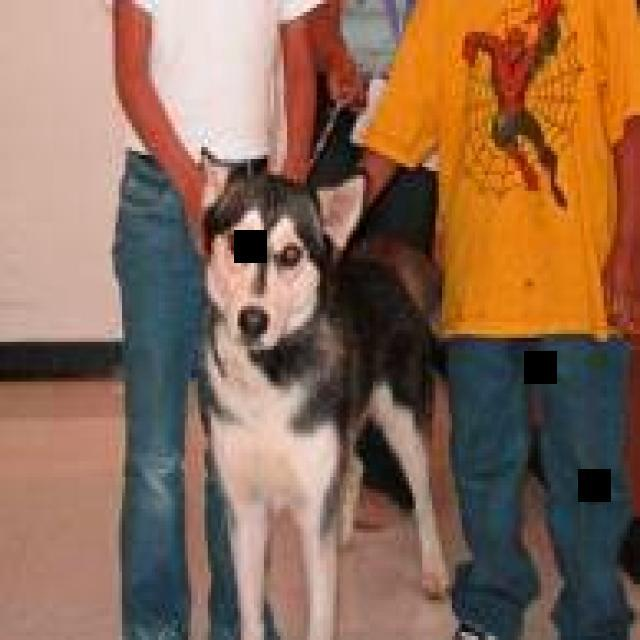adult_dog: (193, 152, 450, 640)
